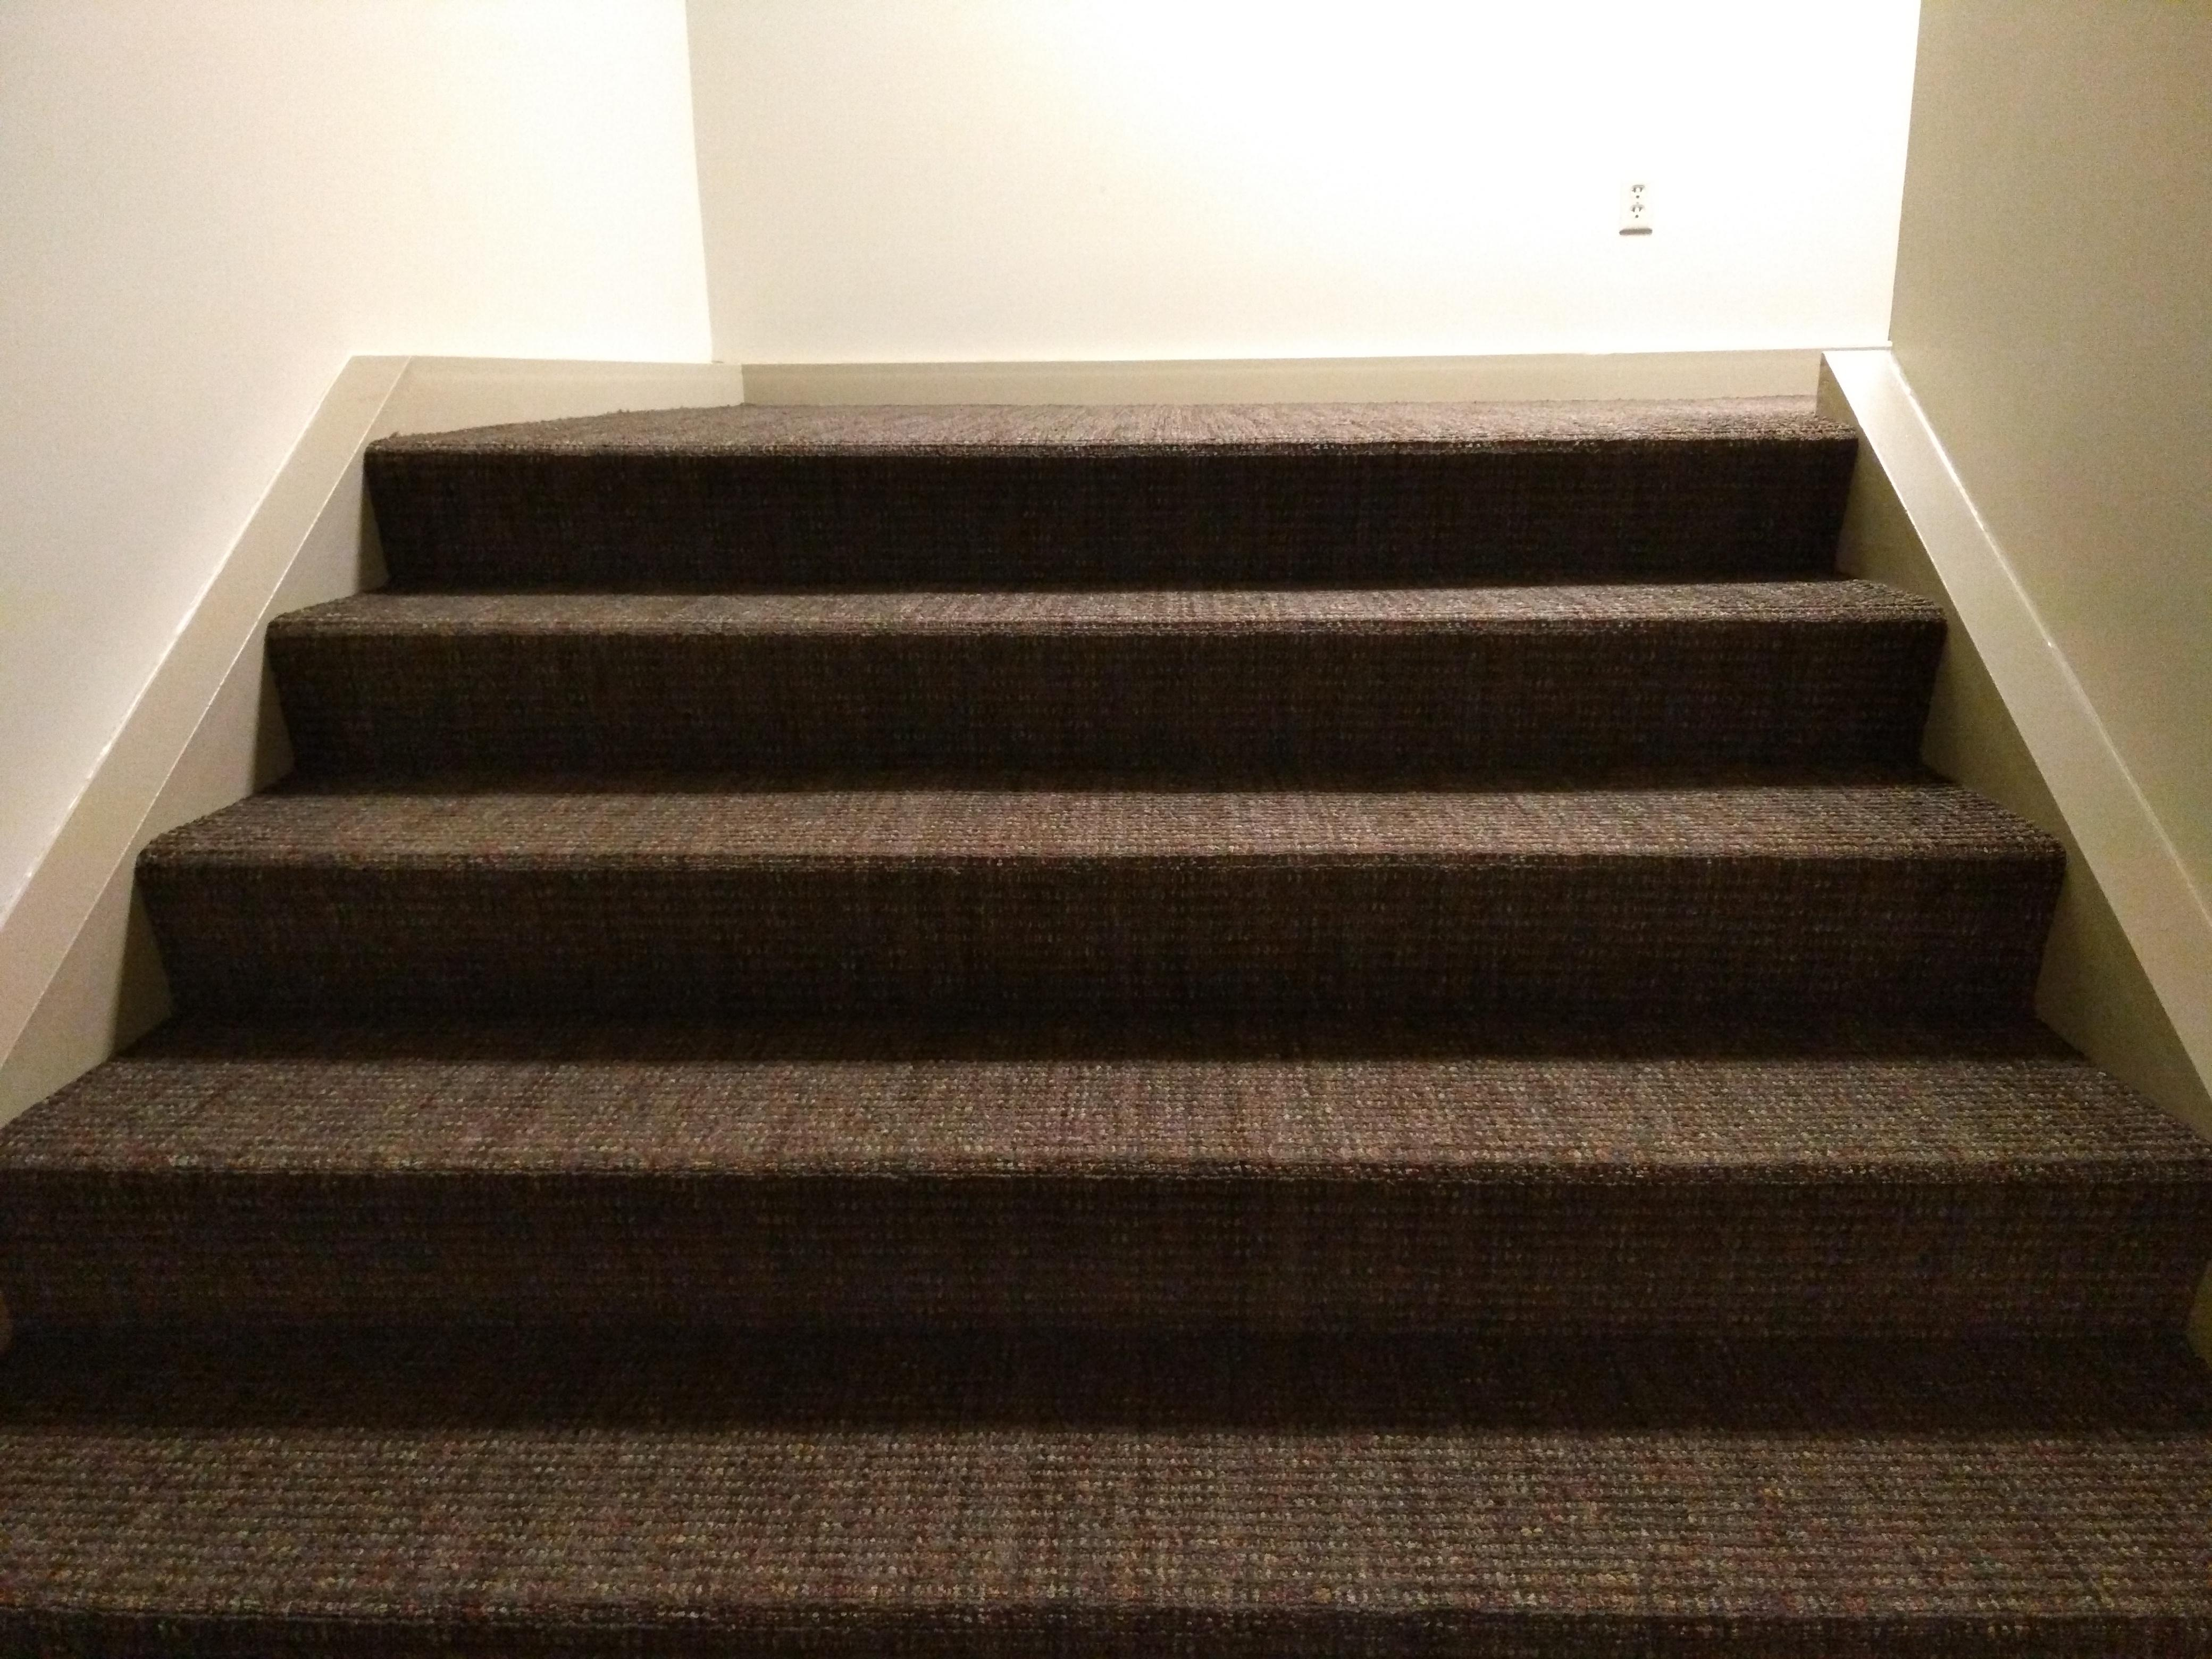stairs_up: (70, 373, 2158, 1358)
